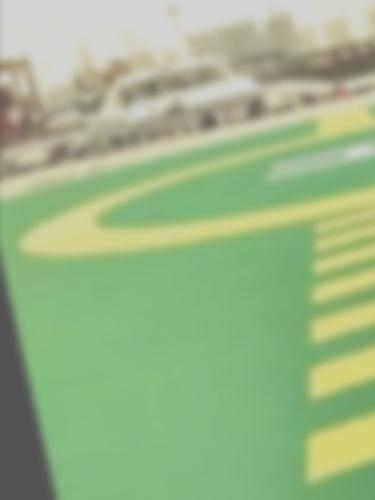Apron: (24, 108, 375, 306)
